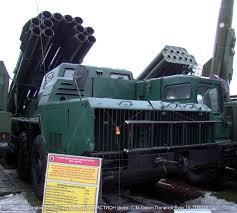MIL_SAM_TEL: (4, 11, 237, 193)
